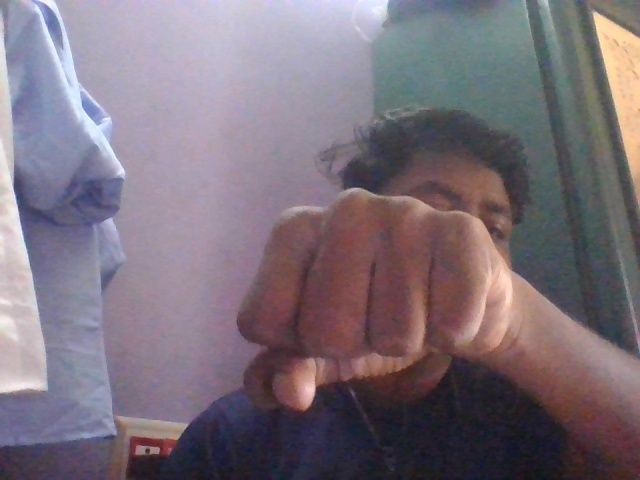yes: (231, 184, 525, 416)
